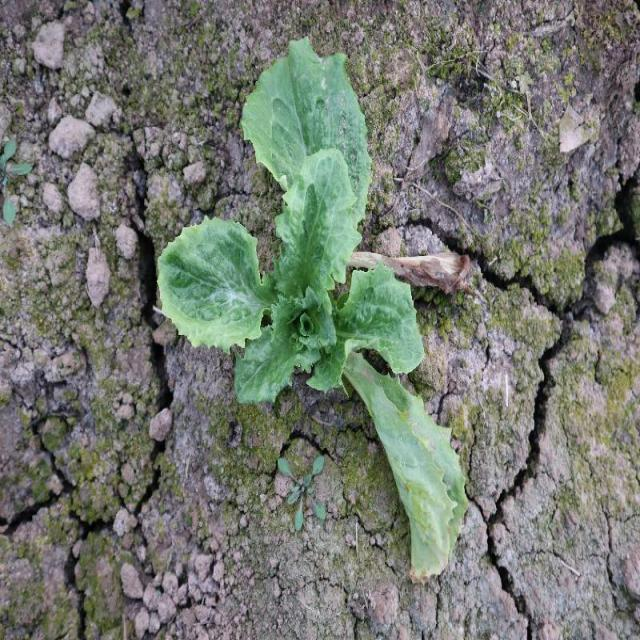crop: (159, 42, 418, 394)
